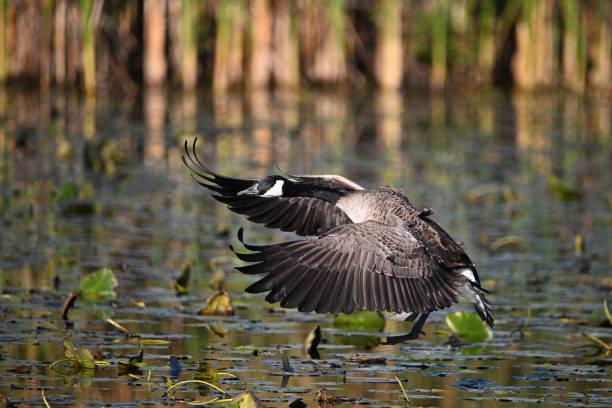Canadian-Goose: (180, 131, 497, 354)
